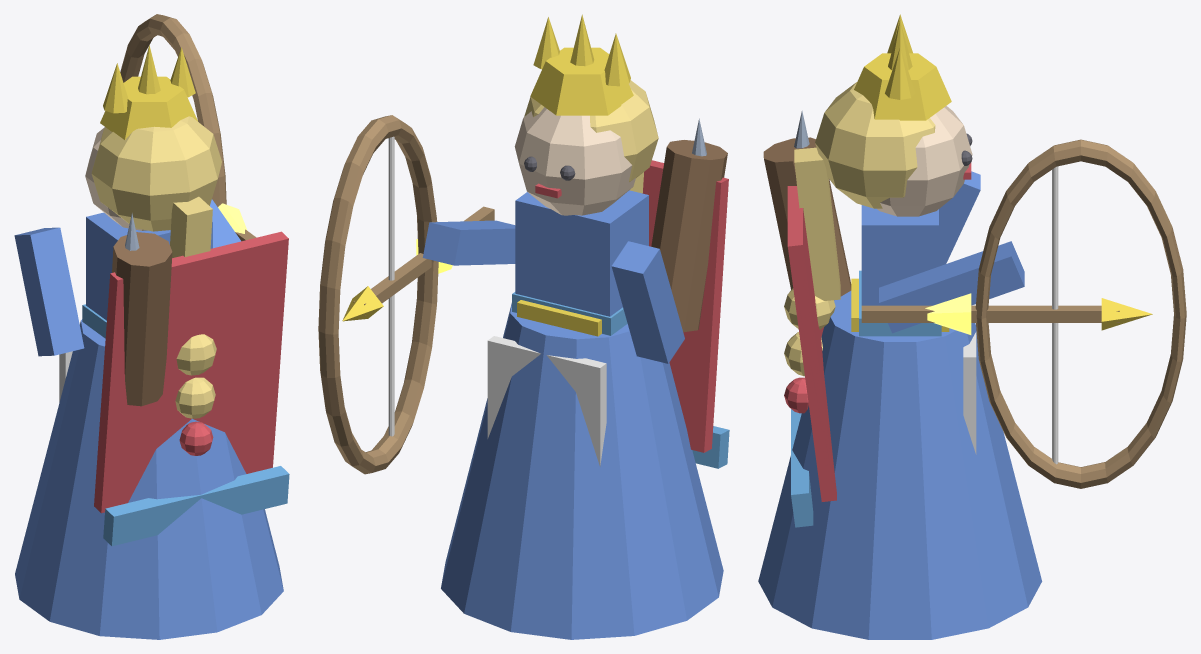
The model's file is princess.glb.
The picture shows the model from 3 angles, left to right: view 1: azimuth 30°, elevation 25°; view 2: azimuth 150°, elevation 25°; view 3: azimuth 270°, elevation 25°; orthographic projection. The views are drawn at different scales.
Visible parts, largest first — view 1: princess; view 2: princess; view 3: princess.
Boxes of the visible parts, x1,y1,x2,y2 form: princess: (14, 14, 289, 639); princess: (318, 14, 729, 639); princess: (758, 14, 1186, 639).
Size of the model in its own units: 1.11 by 2.51 by 1.66.
